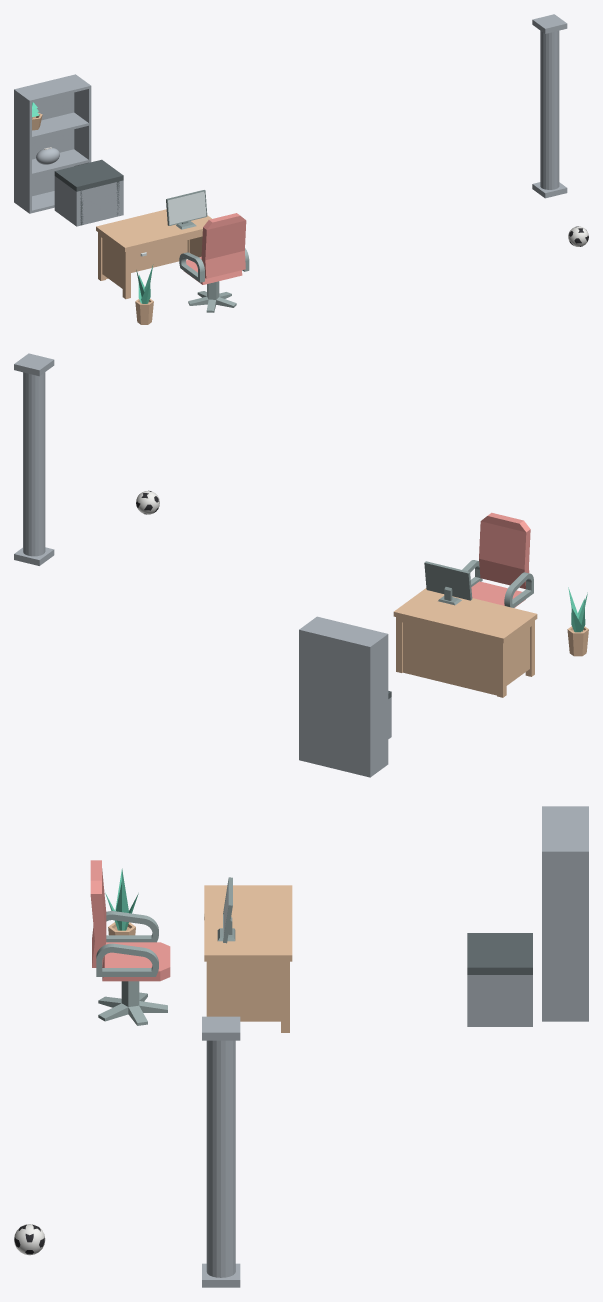
3 views of the same model, one above another, from view 1: azimuth 30°, elevation 25°; view 2: azimuth 150°, elevation 25°; view 3: azimuth 270°, elevation 25° (orthographic). The views are drawn at different scales.
Visible parts, largest first — view 1: desk_blue__desk(Clone), deskchair_black__chair, column_cyan__column_cyan shaft, crate_red__crate_red shell, shelf_orange__shelf_orange side_l, shelf_orange__shelf_orange back, crate_red__crate_red lid, monitor_gray__computerScreen(Clone), shelf_orange__shelf_orange side_r, shelf_orange__shelf_orange board3, shelf_orange__shelf_orange board2, deskchair_black__chairDesk(Clone) (+2 smaller); view 2: desk_blue__desk(Clone), shelf_orange__shelf_orange back, deskchair_black__chair, column_cyan__column_cyan shaft, shelf_orange__shelf_orange side_l, monitor_gray__computerScreen(Clone), shelf_orange__shelf_orange board3, column_cyan__column_cyan capital; view 3: desk_blue__desk(Clone), shelf_orange__shelf_orange side_r, column_cyan__column_cyan shaft, deskchair_black__chair, crate_red__crate_red shell, crate_red__crate_red lid, shelf_orange__shelf_orange board3, deskchair_black__chairDesk(Clone), column_cyan__column_cyan capital, soccer_white__soccer_white, monitor_gray__computerScreen(Clone).
Boxes of the visible parts, x1,y1,x2,y2 form: desk_blue__desk(Clone): [96, 209, 211, 299]; deskchair_black__chair: [179, 213, 249, 284]; column_cyan__column_cyan shaft: [540, 30, 559, 189]; crate_red__crate_red shell: [54, 176, 123, 226]; shelf_orange__shelf_orange side_l: [14, 89, 31, 213]; shelf_orange__shelf_orange back: [17, 75, 74, 196]; crate_red__crate_red lid: [54, 159, 123, 191]; monitor_gray__computerScreen(Clone): [166, 190, 207, 229]; shelf_orange__shelf_orange side_r: [74, 74, 91, 166]; shelf_orange__shelf_orange board3: [17, 75, 88, 102]; shelf_orange__shelf_orange board2: [32, 112, 88, 139]; deskchair_black__chairDesk(Clone): [188, 281, 236, 312]; desk_blue__desk(Clone): [393, 588, 537, 697]; shelf_orange__shelf_orange back: [302, 629, 367, 776]; deskchair_black__chair: [462, 512, 533, 607]; column_cyan__column_cyan shaft: [23, 372, 45, 556]; shelf_orange__shelf_orange side_l: [367, 633, 388, 777]; monitor_gray__computerScreen(Clone): [424, 561, 472, 605]; shelf_orange__shelf_orange board3: [303, 617, 384, 645]; column_cyan__column_cyan capital: [14, 353, 54, 376]; desk_blue__desk(Clone): [204, 885, 292, 1032]; shelf_orange__shelf_orange side_r: [542, 849, 588, 1021]; column_cyan__column_cyan shaft: [206, 1040, 235, 1277]; deskchair_black__chair: [90, 860, 170, 981]; crate_red__crate_red shell: [467, 975, 532, 1026]; crate_red__crate_red lid: [467, 933, 532, 974]; shelf_orange__shelf_orange board3: [542, 808, 585, 849]; deskchair_black__chairDesk(Clone): [98, 981, 167, 1025]; column_cyan__column_cyan capital: [202, 1016, 240, 1040]; soccer_white__soccer_white: [14, 1224, 45, 1255]; monitor_gray__computerScreen(Clone): [217, 877, 235, 943].
Size of the model in its own units: 5.56 by 1.97 by 4.02.
